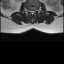CCS_normal: (31, 8, 33, 16)
LFS_severe_stenosis: (35, 8, 37, 13)
LLS_stenosis: (33, 8, 35, 14)
RFS_stenosis: (27, 8, 29, 13)
RLS_normal: (29, 8, 31, 14)
